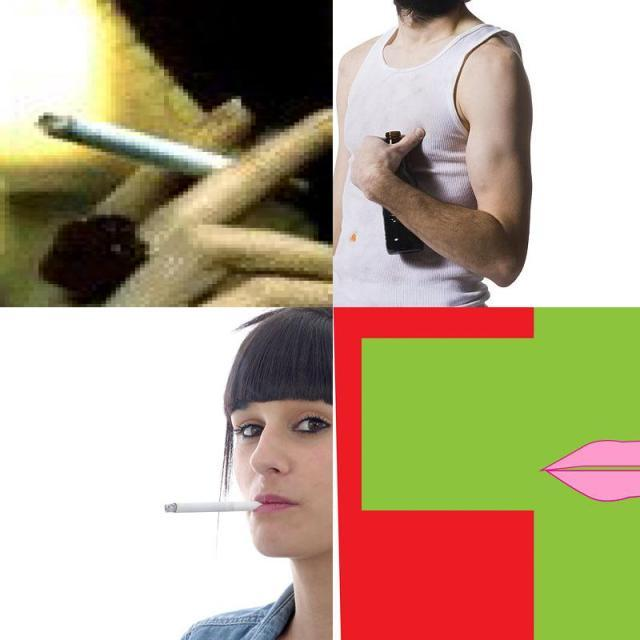smoking: (35, 110, 310, 198), (164, 501, 266, 514)
